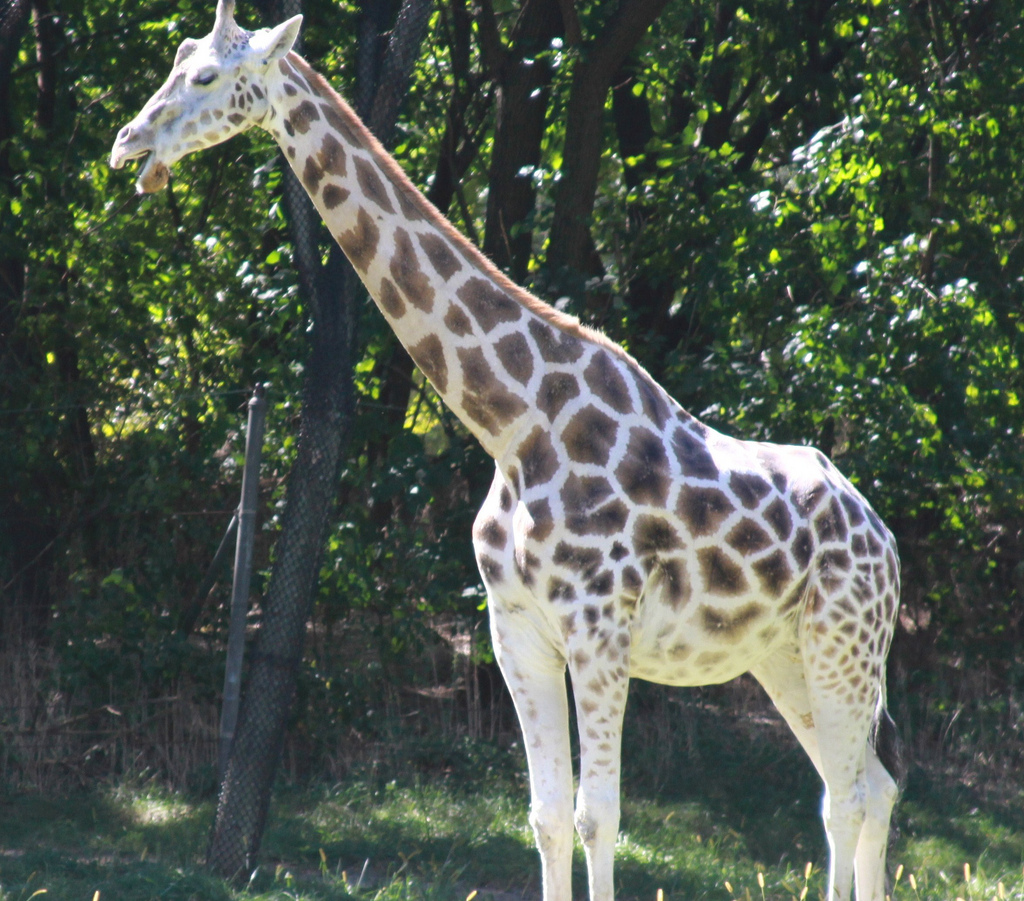giraffe: (106, 18, 907, 855)
